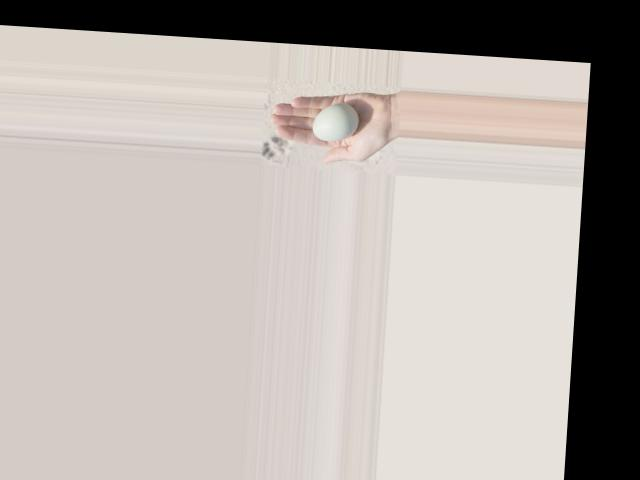egg: (310, 101, 358, 142)
